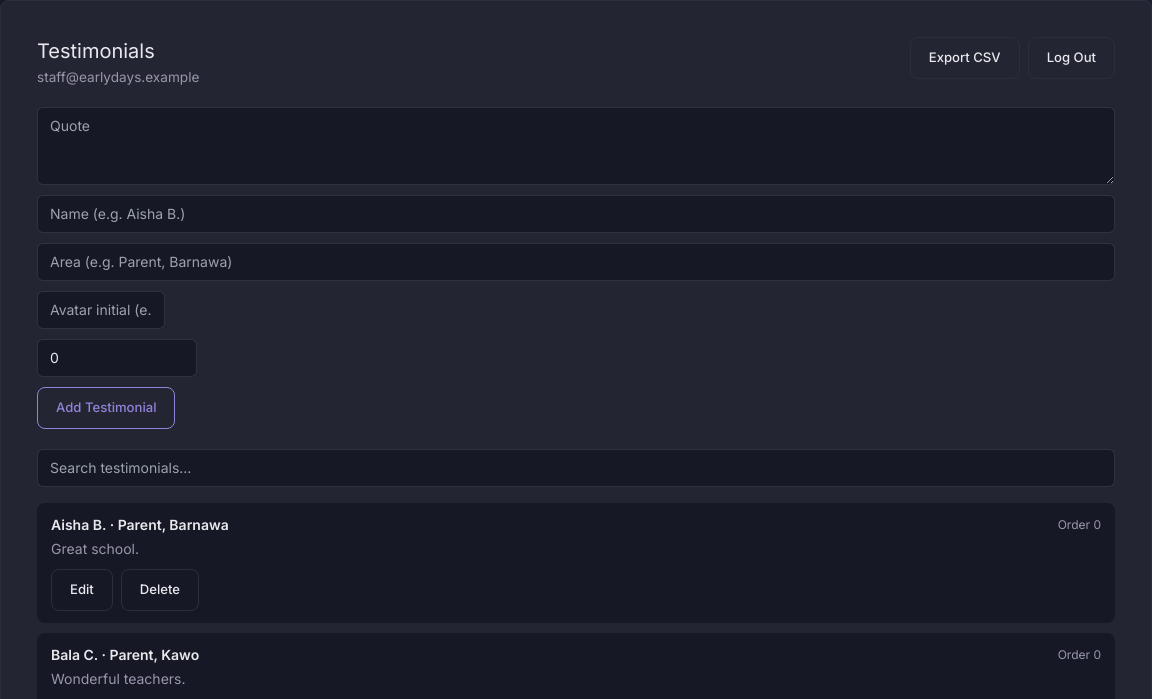
it: AdminTestimonialsPanel › filters the list by search query
The image size is (1152, 699).
Expected: the text "Aisha B. · Parent, Barnawa" is shown, [51,515,229,535]
Expected: the text "Bala C. · Parent, Kawo" is shown, [51,645,199,665]
In the field labelled "Search testimonials": (576, 468) [37,449,1115,487], type "wonderful"
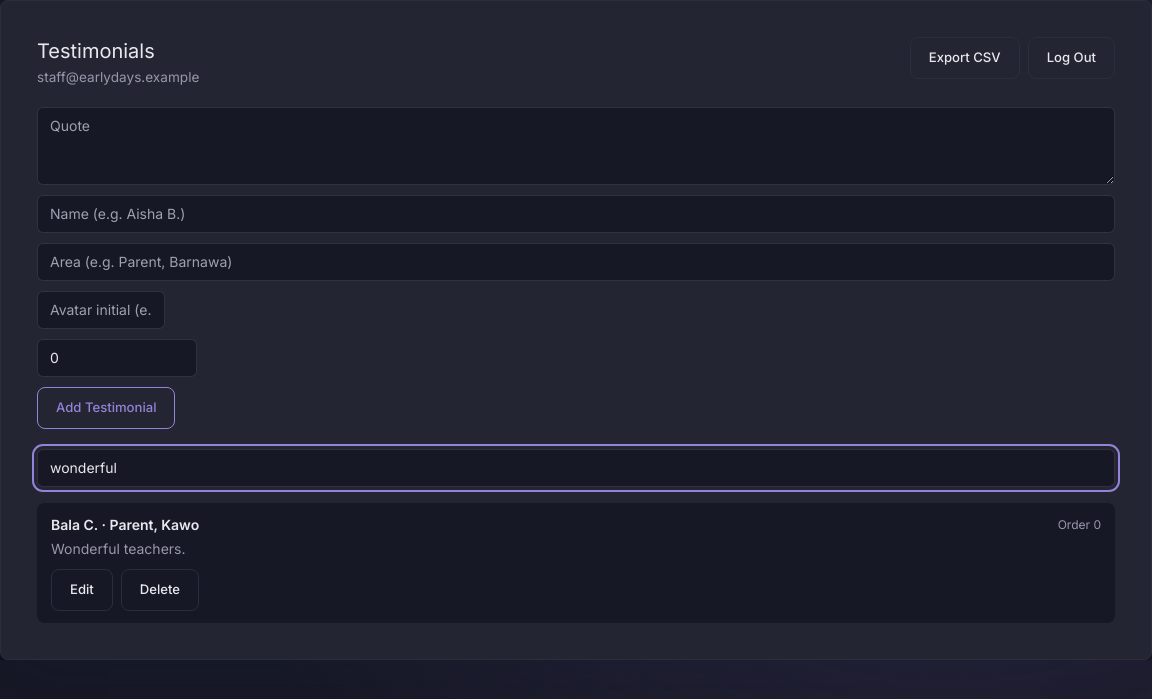
Expected: the text "Bala C. · Parent, Kawo" is shown, [51,515,199,535]
Expected: the text "Aisha B. · Parent, Barnawa" is gone
